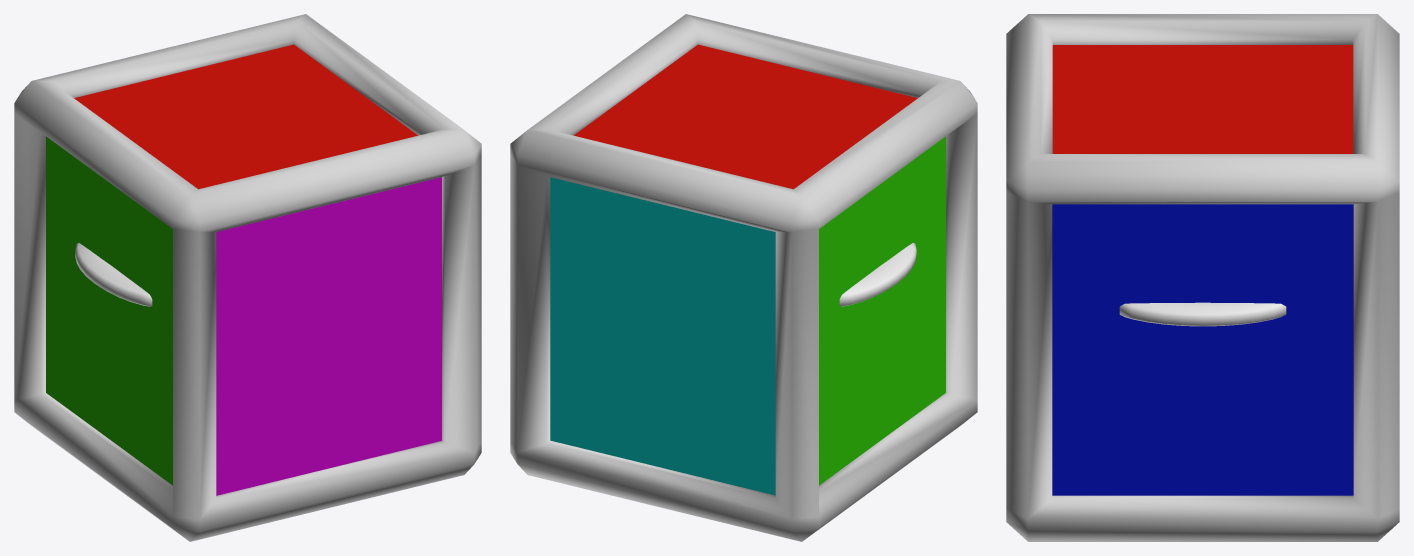
The model's file is ArenaV2.fbx.
The picture shows the model from 3 angles, left to right: view 1: azimuth 30°, elevation 25°; view 2: azimuth 150°, elevation 25°; view 3: azimuth 270°, elevation 25°; orthographic projection. The views are drawn at different scales.
Parts seen in each view (by area): view 1: CubeWalls, CubeFrame, MainPlaformTop; view 2: CubeWalls, CubeFrame, MainPlaformTop; view 3: CubeWalls, CubeFrame, MainPlaformTop.
Part boxes in pixels (x1,y1,x2,y2): CubeWalls: (46,44,441,495); CubeFrame: (14,14,481,541); MainPlaformTop: (75,243,152,306); CubeWalls: (550,44,945,495); CubeFrame: (510,14,977,541); MainPlaformTop: (839,243,916,306); CubeWalls: (1052,45,1353,495); CubeFrame: (1006,14,1399,541); MainPlaformTop: (1119,302,1286,326).
Size of what is drawn, in the model's own units: 216 by 231 by 216.
